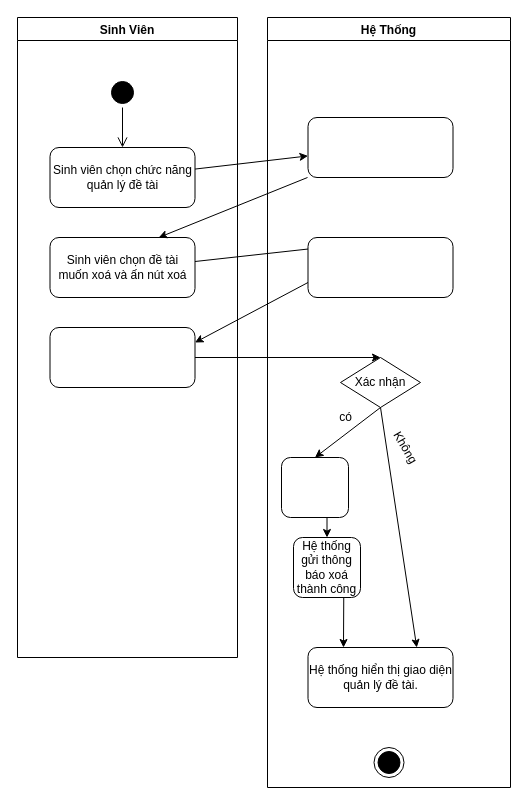
Image size: 528x805. Some labels were removed from this diagram. The centre of each missing label's shape, as x and y in pixels:
"Hệ thống hiển thị thông tin đề tài của sinh viên lên giao diện quản lý đề tài." goes at pixel 380 147.
"Hệ thống xoá đề tài khỏi cơ sở dữ liệu." goes at pixel 314 487.
"Hệ thống đưa ra lựa chọn xác nhận xoá với Sinh viên" goes at pixel 380 267.
"Sinh viên xác nhận xoá." goes at pixel 122 357.
